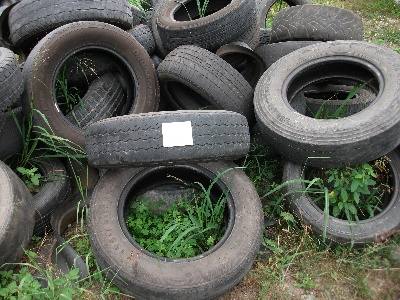tire: (85, 158, 264, 300), (254, 40, 400, 164), (25, 20, 160, 154), (280, 156, 400, 246), (84, 110, 252, 161), (155, 45, 253, 111), (6, 1, 132, 47), (154, 1, 258, 50), (269, 5, 363, 39)
